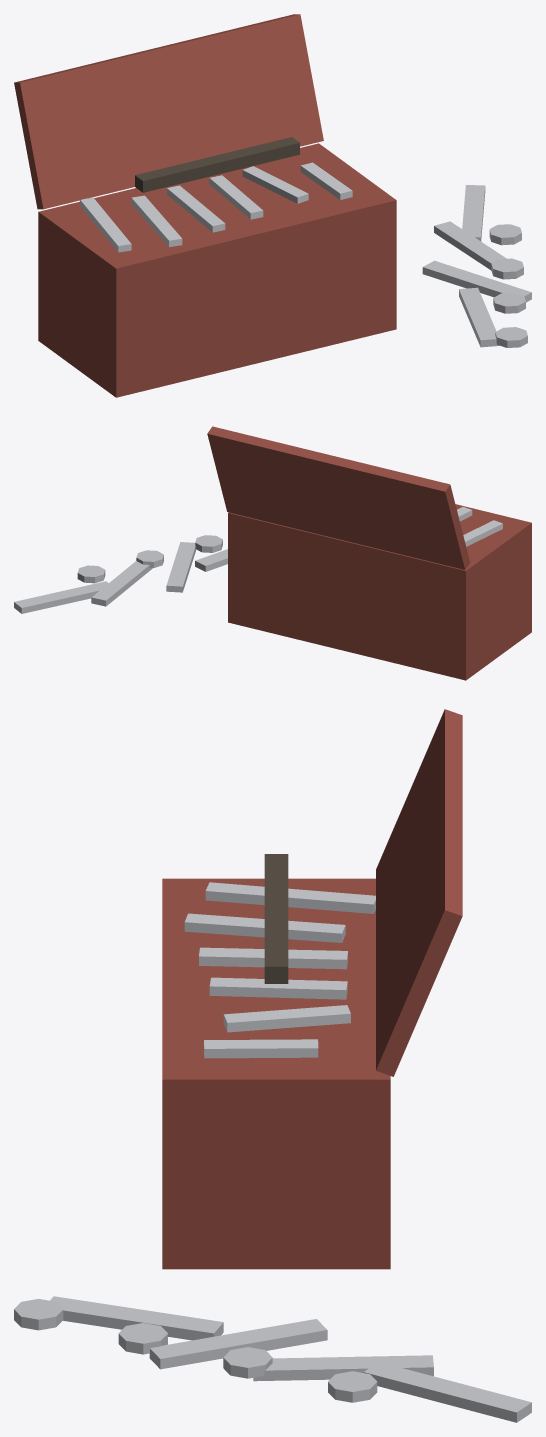
Rendered from camp_toolbox_a.glb.
3 renders of one model, top to bottom at view 1: azimuth 30°, elevation 25°; view 2: azimuth 150°, elevation 25°; view 3: azimuth 270°, elevation 25°, orthographic. The views are drawn at different scales.
Parts seen in each view (by area): view 1: body; view 2: body; view 3: body.
Part boxes in pixels (bbox=[...]): body: bbox=[14, 14, 531, 397]; body: bbox=[14, 426, 531, 680]; body: bbox=[14, 709, 531, 1422].
Size of what is drawn, in the model's own units: 0.8731 by 0.4208 by 0.5445.
